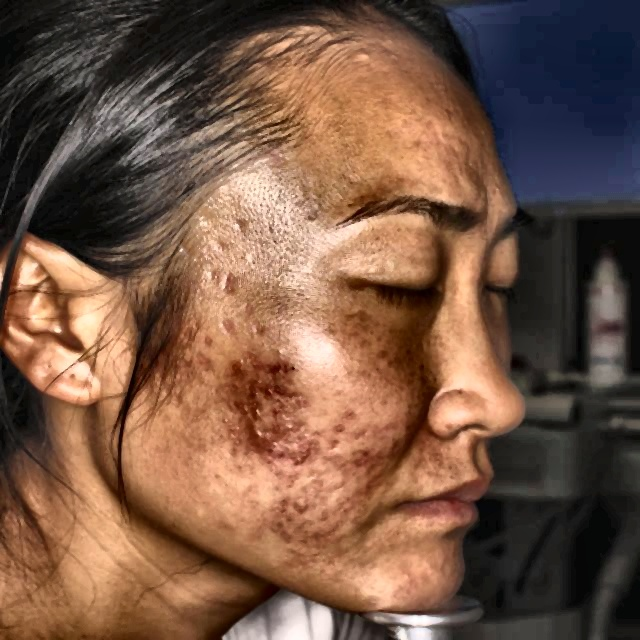pustule: (345, 45, 377, 76), (290, 492, 311, 522), (252, 379, 278, 401), (240, 404, 273, 421), (246, 422, 265, 447), (230, 354, 248, 380), (262, 362, 300, 374), (268, 435, 284, 462), (292, 448, 311, 468), (358, 445, 377, 464), (332, 413, 342, 435)
